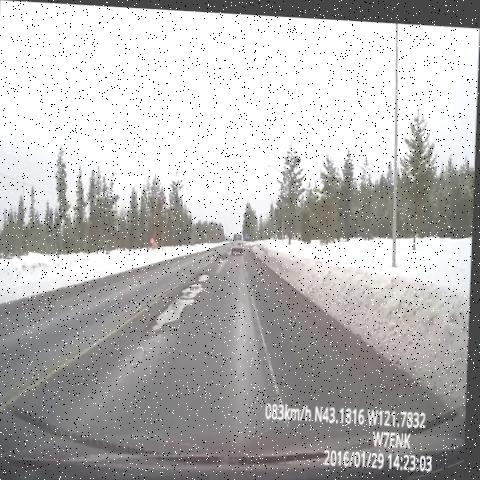pothole: (147, 266, 220, 350), (215, 243, 233, 263)
